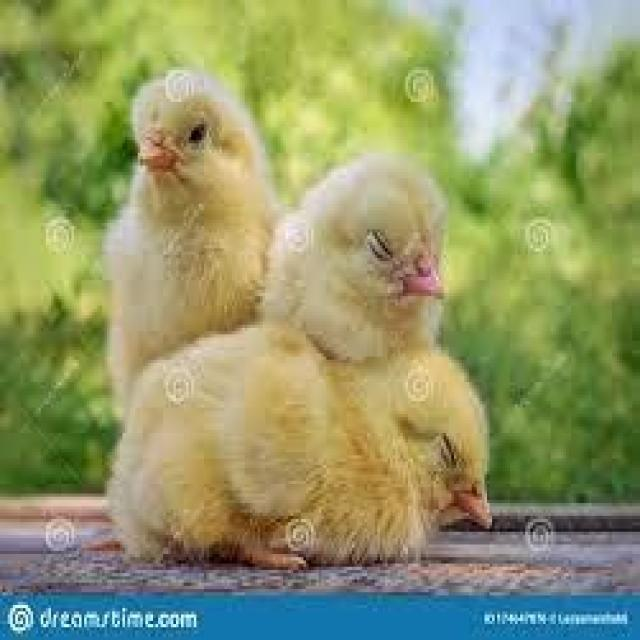poussin: (116, 325, 500, 568), (94, 74, 278, 342), (259, 154, 454, 357)
